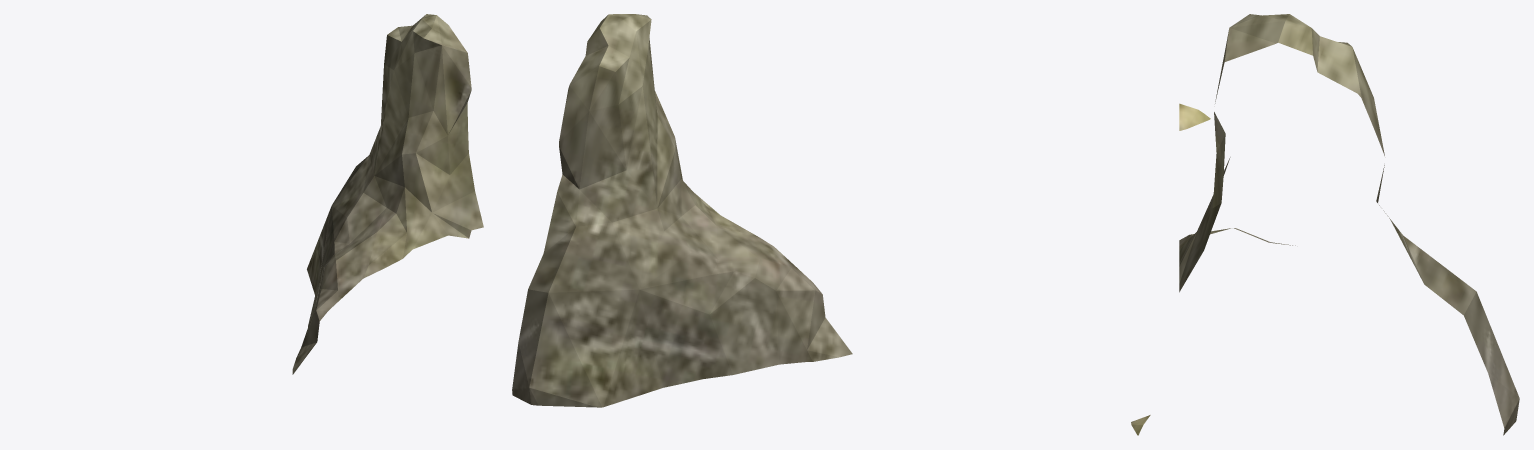
The picture shows the model from 3 angles, left to right: view 1: azimuth 30°, elevation 25°; view 2: azimuth 150°, elevation 25°; view 3: azimuth 270°, elevation 25°; orthographic projection. The views are drawn at different scales.
Size of the model in its own units: 2.95 by 1.77 by 1.34.
1 material, 1 textured.
